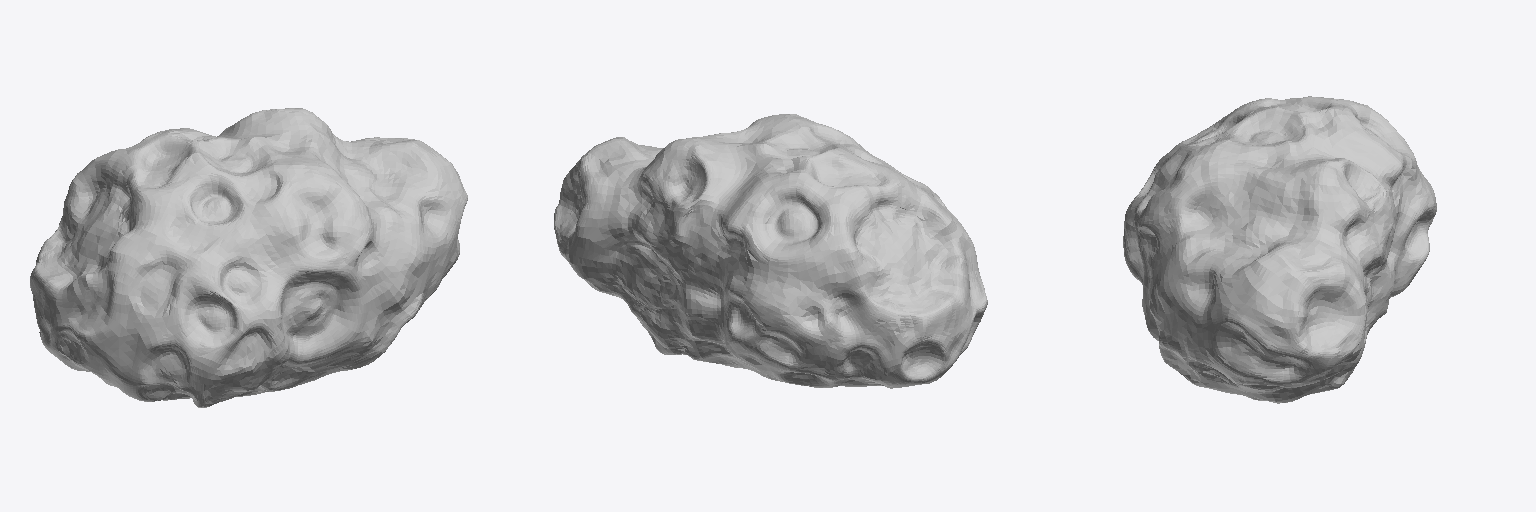
The model's file is Asteroid_2c.obj.
3 renders of one model, left to right at view 1: azimuth 30°, elevation 25°; view 2: azimuth 150°, elevation 25°; view 3: azimuth 270°, elevation 25°, orthographic.
Visible parts, largest first — view 1: Asteroid_2c; view 2: Asteroid_2c; view 3: Asteroid_2c.
Part boxes in pixels (x1,y1,x2,y2): Asteroid_2c: (30,108,467,407); Asteroid_2c: (554,114,987,388); Asteroid_2c: (1123,96,1436,403).
Size of the model in its own units: 2.96 by 1.67 by 1.99.